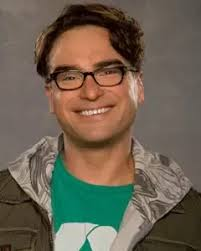Glasses: (41, 62, 139, 92)
